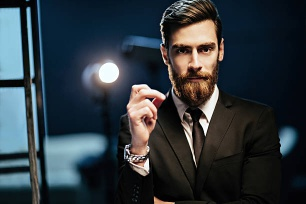male: (152, 8, 228, 105)
